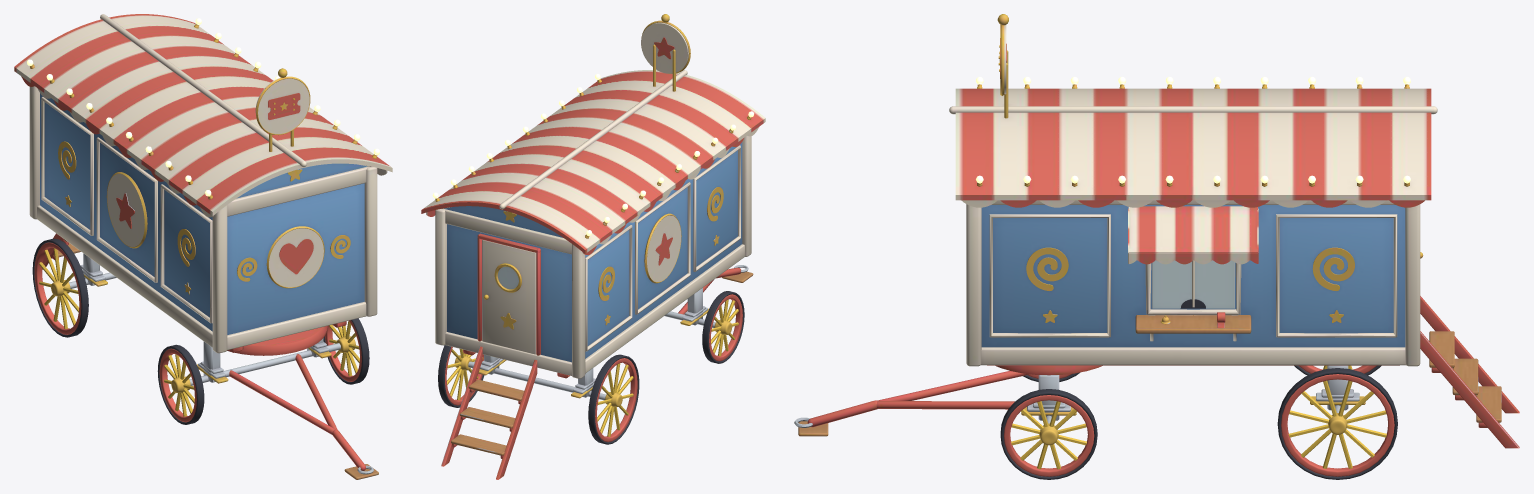
Rendered from circus-wagon.glb.
The picture shows the model from 3 angles, left to right: view 1: azimuth 30°, elevation 25°; view 2: azimuth 150°, elevation 25°; view 3: azimuth 270°, elevation 25°; orthographic projection. The views are drawn at different scales.
Parts seen in each view (by area): view 1: circus-wagon_body, circus-wagon_wheel_rl, circus-wagon_wheel_fl, circus-wagon_wheel_fr, circus-wagon_bulbs; view 2: circus-wagon_body, circus-wagon_wheel_rl, circus-wagon_wheel_fl, circus-wagon_wheel_rr, circus-wagon_bulbs; view 3: circus-wagon_body, circus-wagon_wheel_rr, circus-wagon_wheel_fr, circus-wagon_bulbs.
Boxes of the visible parts, x1,y1,x2,y2 form: circus-wagon_body: (14, 14, 392, 479); circus-wagon_wheel_rl: (32, 238, 88, 337); circus-wagon_wheel_fl: (157, 344, 204, 424); circus-wagon_wheel_fr: (323, 318, 369, 384); circus-wagon_bulbs: (27, 18, 379, 196); circus-wagon_body: (421, 14, 765, 479); circus-wagon_wheel_rl: (588, 354, 639, 444); circus-wagon_wheel_fl: (702, 291, 744, 363); circus-wagon_wheel_rr: (438, 345, 484, 407); circus-wagon_bulbs: (432, 74, 754, 235); circus-wagon_body: (794, 14, 1519, 448); circus-wagon_wheel_rr: (1277, 368, 1397, 479); circus-wagon_wheel_fr: (1000, 389, 1097, 479); circus-wagon_bulbs: (976, 76, 1410, 183).
Size of the model in its own units: 2.42 by 3.97 by 6.28.
18 materials, 1 textured.
